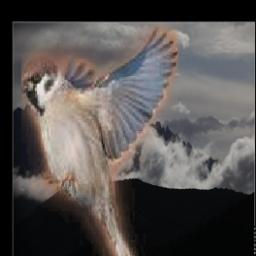Sparrow: (21, 25, 178, 256)
